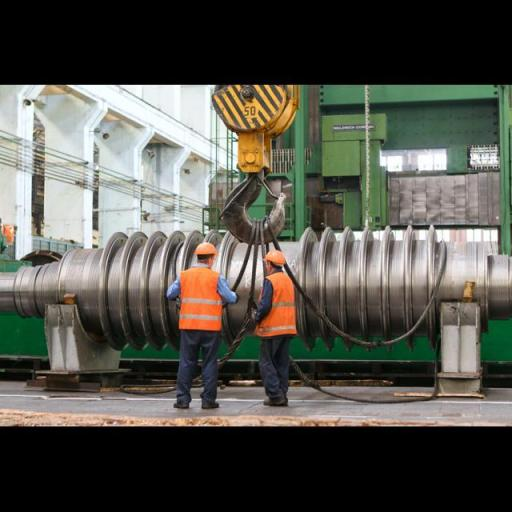Person: (171, 228, 241, 422), (245, 224, 314, 418)
boots: (262, 388, 294, 409), (198, 395, 224, 412), (168, 397, 192, 412)
helmet: (266, 248, 290, 266), (193, 239, 217, 257)
vest: (246, 273, 300, 336), (176, 270, 228, 332)
